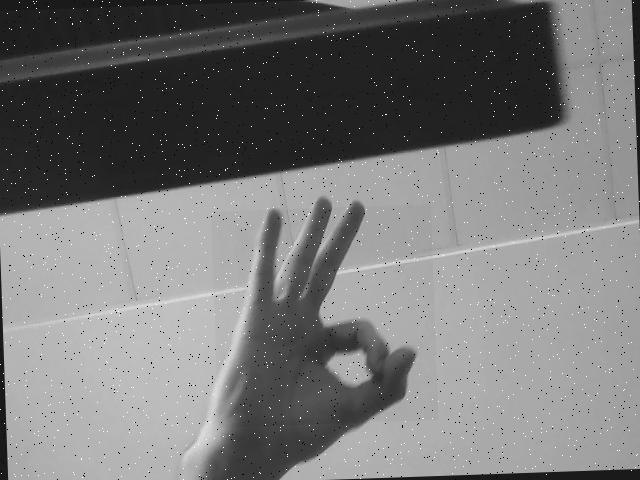OK: (211, 204, 438, 428)
